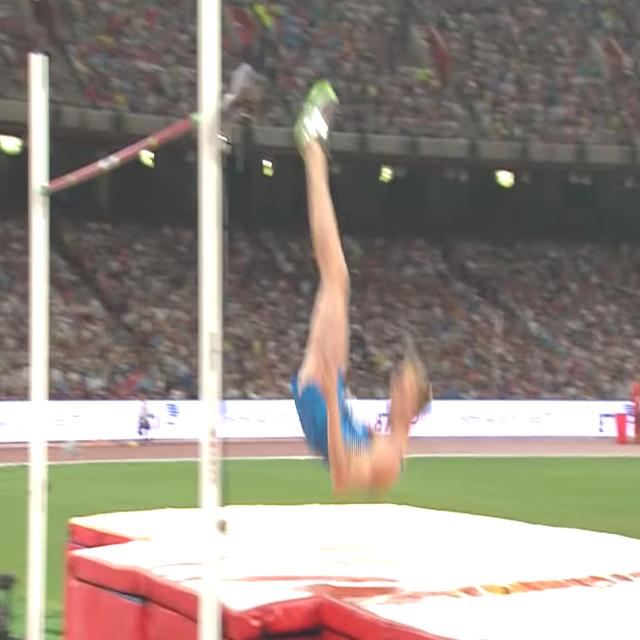land: (294, 80, 432, 493)
